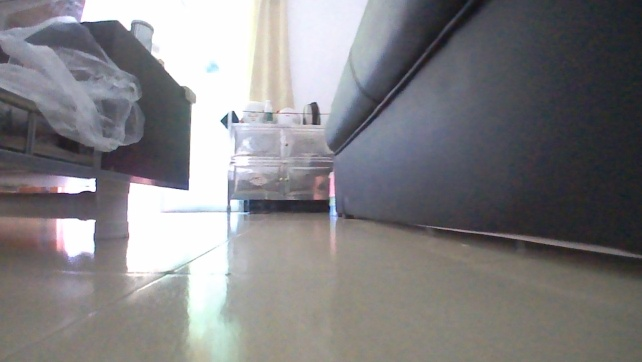sofa1: (321, 0, 641, 256)
